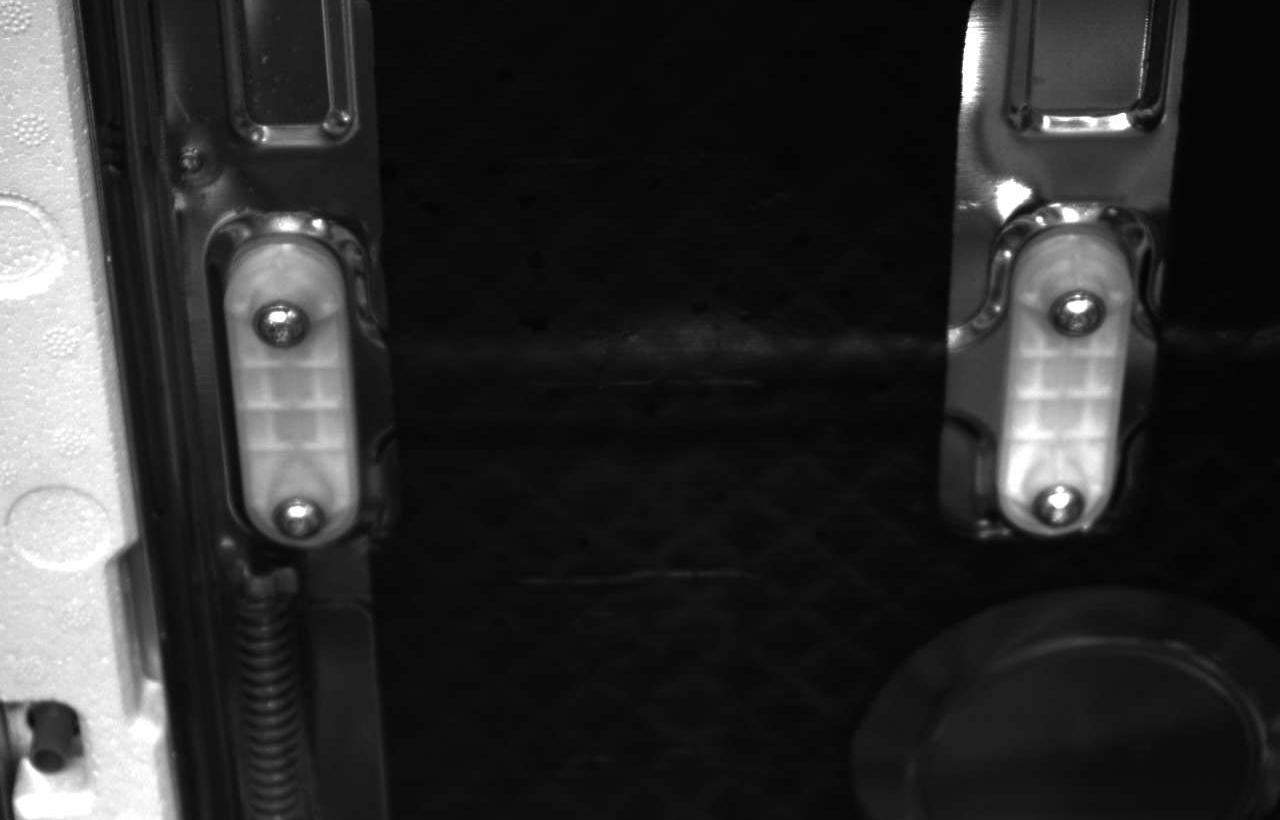vida-ok: (244, 291, 316, 358), (1027, 465, 1093, 534), (1047, 278, 1114, 345), (264, 492, 330, 551)
